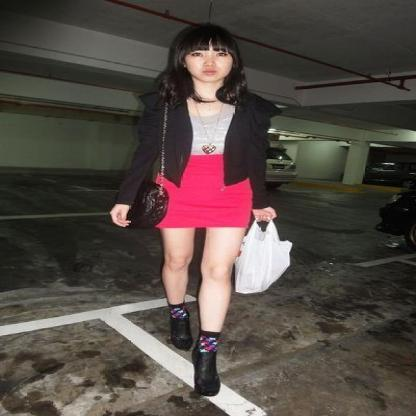bag: (126, 180, 291, 294)
jacket: (105, 92, 281, 208)
shirt: (188, 101, 234, 155)
shoe: (148, 286, 220, 402)
skirt: (156, 151, 264, 236)
